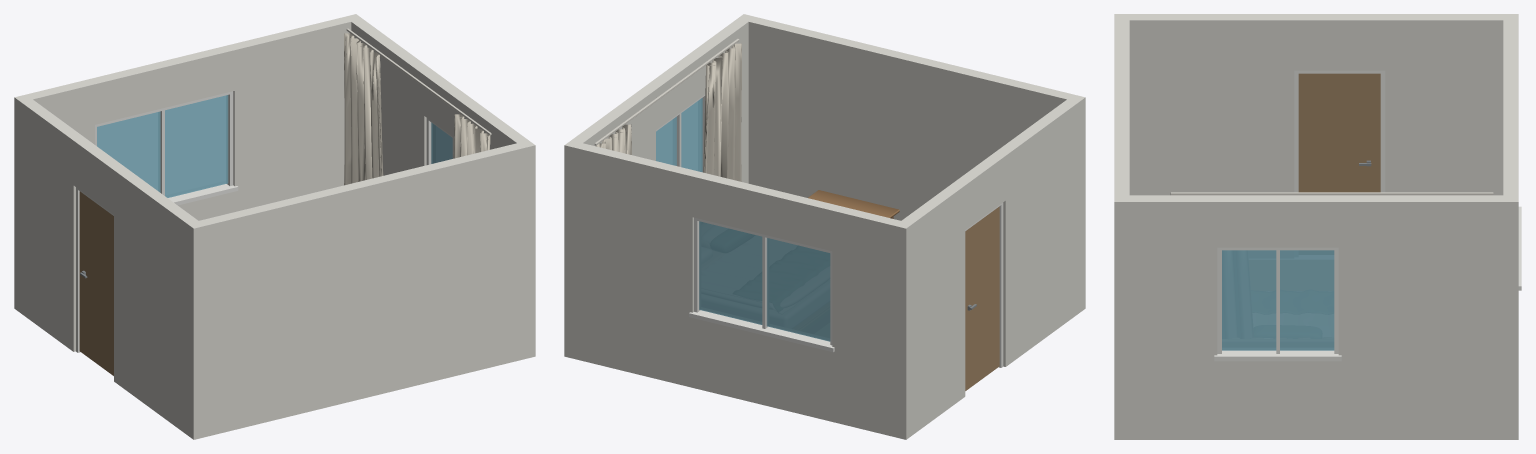
The model's file is oursv11b.glb.
3 views of the same model, side by side, from view 1: azimuth 30°, elevation 25°; view 2: azimuth 150°, elevation 25°; view 3: azimuth 270°, elevation 25° (orthographic). The views are drawn at different scales.
Parts seen in each view (by area): view 1: wall|scenesmith_024__R00|0, wall|scenesmith_024__R00|2, wall|scenesmith_024__R00|1, wall|scenesmith_024__R00|1 Window 0 | glazing, wall|scenesmith_024__R00|3, Option V2 softly draped left linen panel, wall|scenesmith_024__R00|2 Door 0 | wood leaf, wall|scenesmith_024__R00|1 Window 0 | jamb, wall|scenesmith_024__R00|2 Door 0 | jamb, wall|scenesmith_024__R00|3 Window 0 | glazing, Option V2 continuous curtain track; view 2: wall|scenesmith_024__R00|1, wall|scenesmith_024__R00|0, wall|scenesmith_024__R00|2, wall|scenesmith_024__R00|1 Window 0 | glazing, wall|scenesmith_024__R00|3, wall|scenesmith_024__R00|2 Door 0 | wood leaf, Option V2 softly draped left linen panel, wall|scenesmith_024__R00|1 Window 0 | jamb, wall|scenesmith_024__R00|3 Window 0 | glazing, Backrest, wall|scenesmith_024__R00|2 Door 0 | jamb, wall|scenesmith_024__R00|3 Window 0 | jamb (+1 smaller); view 3: wall|scenesmith_024__R00|3, wall|scenesmith_024__R00|2, wall|scenesmith_024__R00|3 Window 0 | glazing, wall|scenesmith_024__R00|2 Door 0 | wood leaf, wall|scenesmith_024__R00|3 Window 0 | jamb, wall|scenesmith_024__R00|0, wall|scenesmith_024__R00|1, wall|scenesmith_024__R00|2 Door 0 | jamb, Option V2 continuous curtain track.
Boxes of the visible parts, x1=… form: wall|scenesmith_024__R00|0: x1=187, y1=140, x2=535, y2=439; wall|scenesmith_024__R00|2: x1=15, y1=94, x2=205, y2=438; wall|scenesmith_024__R00|1: x1=14, y1=14, x2=362, y2=313; wall|scenesmith_024__R00|1 Window 0 | glazing: x1=97, y1=95, x2=228, y2=197; wall|scenesmith_024__R00|3: x1=351, y1=19, x2=532, y2=219; Option V2 softly draped left linen panel: x1=344, y1=33, x2=490, y2=185; wall|scenesmith_024__R00|2 Door 0 | wood leaf: x1=79, y1=191, x2=113, y2=375; wall|scenesmith_024__R00|1 Window 0 | jamb: x1=95, y1=91, x2=238, y2=205; wall|scenesmith_024__R00|2 Door 0 | jamb: x1=76, y1=187, x2=113, y2=352; wall|scenesmith_024__R00|3 Window 0 | glazing: x1=431, y1=122, x2=452, y2=163; Option V2 continuous curtain track: x1=346, y1=28, x2=491, y2=135; wall|scenesmith_024__R00|1: x1=564, y1=140, x2=912, y2=439; wall|scenesmith_024__R00|0: x1=737, y1=14, x2=1085, y2=313; wall|scenesmith_024__R00|2: x1=895, y1=94, x2=1084, y2=434; wall|scenesmith_024__R00|1 Window 0 | glazing: x1=699, y1=221, x2=830, y2=341; wall|scenesmith_024__R00|3: x1=571, y1=19, x2=748, y2=183; wall|scenesmith_024__R00|2 Door 0 | wood leaf: x1=965, y1=206, x2=999, y2=390; Option V2 softly draped left linen panel: x1=596, y1=43, x2=741, y2=181; wall|scenesmith_024__R00|1 Window 0 | jamb: x1=689, y1=217, x2=834, y2=352; wall|scenesmith_024__R00|3 Window 0 | glazing: x1=656, y1=98, x2=702, y2=172; Backrest: x1=808, y1=190, x2=899, y2=218; wall|scenesmith_024__R00|2 Door 0 | jamb: x1=965, y1=202, x2=1003, y2=367; wall|scenesmith_024__R00|3 Window 0 | jamb: x1=656, y1=94, x2=705, y2=172; wall|scenesmith_024__R00|3: x1=1114, y1=195, x2=1518, y2=439; wall|scenesmith_024__R00|2: x1=1114, y1=14, x2=1518, y2=195; wall|scenesmith_024__R00|3 Window 0 | glazing: x1=1222, y1=250, x2=1334, y2=350; wall|scenesmith_024__R00|2 Door 0 | wood leaf: x1=1298, y1=73, x2=1380, y2=192; wall|scenesmith_024__R00|3 Window 0 | jamb: x1=1214, y1=247, x2=1341, y2=361; wall|scenesmith_024__R00|0: x1=1114, y1=20, x2=1129, y2=201; wall|scenesmith_024__R00|1: x1=1503, y1=20, x2=1518, y2=201; wall|scenesmith_024__R00|2 Door 0 | jamb: x1=1294, y1=70, x2=1385, y2=192; Option V2 continuous curtain track: x1=1170, y1=192, x2=1493, y2=195.
Bounding box in the file's own units: 4.43 × 2.61 × 4.03.
